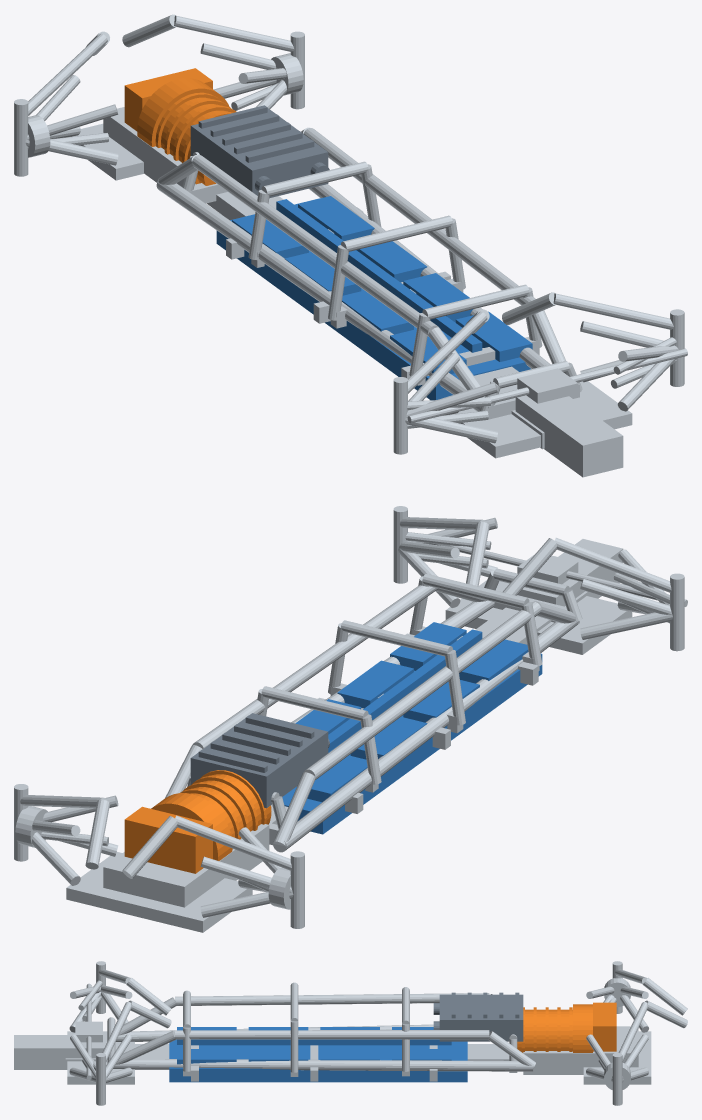
File: W11_V6_CHASSIS_ONLY.glb
The picture shows the model from 3 angles, top to bottom: view 1: azimuth 30°, elevation 25°; view 2: azimuth 150°, elevation 25°; view 3: azimuth 270°, elevation 25°; orthographic projection. The views are drawn at different scales.
Parts seen in each view (by area): view 1: Structural EV chassis, Front suspension, Low energy store, Rear suspension, Inverter controller, Rear motor and gearbox; view 2: Structural EV chassis, Rear suspension, Front suspension, Low energy store, Rear motor and gearbox, Inverter controller; view 3: Structural EV chassis, Low energy store, Front suspension, Rear suspension, Rear motor and gearbox, Inverter controller.
Part boxes in pixels (x1,y1,x2,y2): Structural EV chassis: (103,107,623,477); Front suspension: (393,292,687,458); Low energy store: (216,196,532,400); Rear suspension: (14,14,304,180); Inverter controller: (190,105,329,198); Rear motor and gearbox: (124,68,236,185); Structural EV chassis: (103,539,623,907); Rear suspension: (14,784,304,932); Front suspension: (393,506,687,654); Low energy store: (282,622,542,834); Rear motor and gearbox: (124,770,271,873); Inverter controller: (190,713,329,808); Structural EV chassis: (14,982,638,1081); Low energy store: (169,1027,467,1082); Front suspension: (67,961,171,1105); Rear suspension: (583,961,687,1105); Rear motor and gearbox: (517,1002,616,1052); Inverter controller: (433,992,523,1041).
Size of the model in its own units: 0.0571 by 0.0209 by 0.1694.
